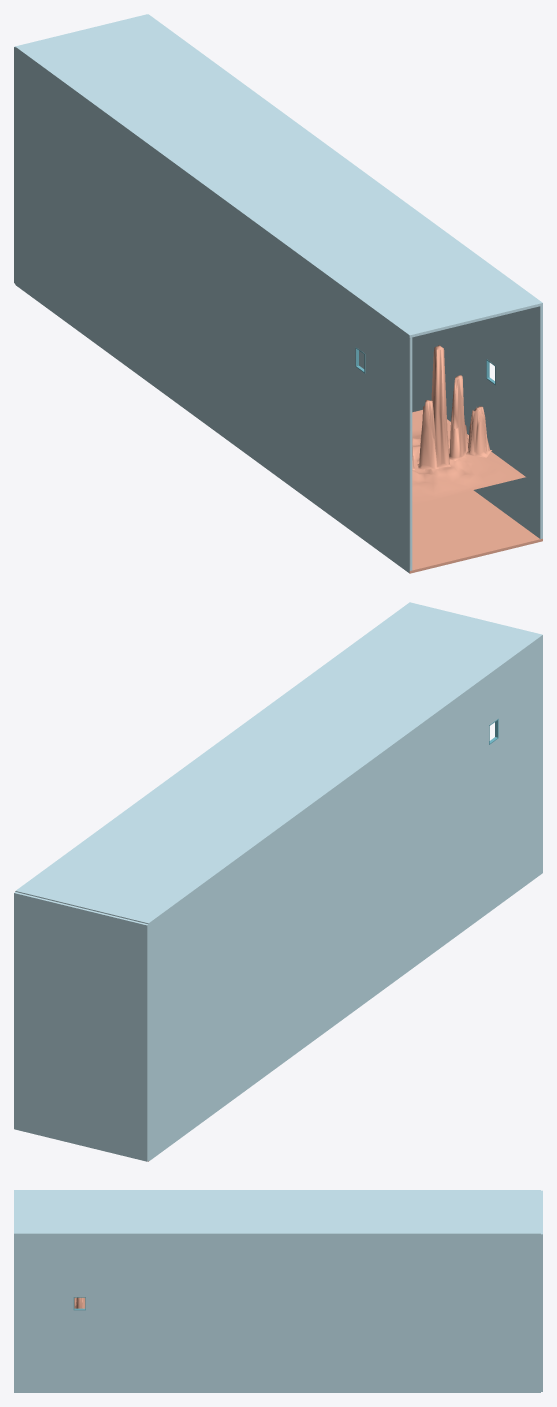
File: 06 coin river_mapping.fbx
The picture shows the model from 3 angles, top to bottom: view 1: azimuth 30°, elevation 25°; view 2: azimuth 150°, elevation 25°; view 3: azimuth 270°, elevation 25°; orthographic projection. The views are drawn at different scales.
Parts seen in each view (by area): view 1: Cube_5_Null, Landscape_7, Ground; view 2: Cube_5_Null; view 3: Cube_5_Null.
Boxes of the visible parts, bbox=[...] form: Cube_5_Null: bbox=[14, 14, 542, 573]; Landscape_7: bbox=[412, 345, 491, 469]; Ground: bbox=[412, 410, 525, 504]; Cube_5_Null: bbox=[14, 602, 542, 1161]; Cube_5_Null: bbox=[14, 1190, 542, 1392].
Size of the model in its own units: 1565 by 2668 by 8030.
5 materials, 5 textured.
